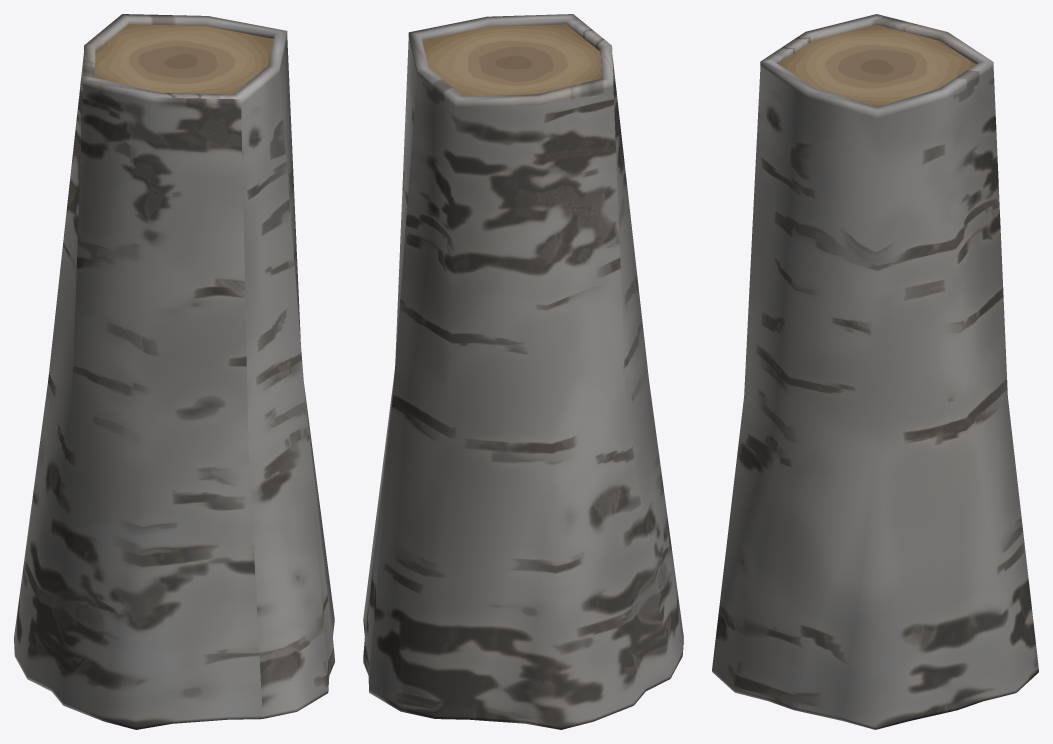
File: tree07_log_small.fbx
The picture shows the model from 3 angles, left to right: view 1: azimuth 30°, elevation 25°; view 2: azimuth 150°, elevation 25°; view 3: azimuth 270°, elevation 25°; orthographic projection.
Visible parts, largest first — view 1: tree.006; view 2: tree.006; view 3: tree.006.
Boxes of the visible parts, left/top/right/bottom form: tree.006: left=14, top=14, right=334, bottom=729; tree.006: left=363, top=14, right=683, bottom=729; tree.006: left=712, top=14, right=1038, bottom=729.
Bounding box in the file's own units: 37.81 × 75.34 × 37.43.
